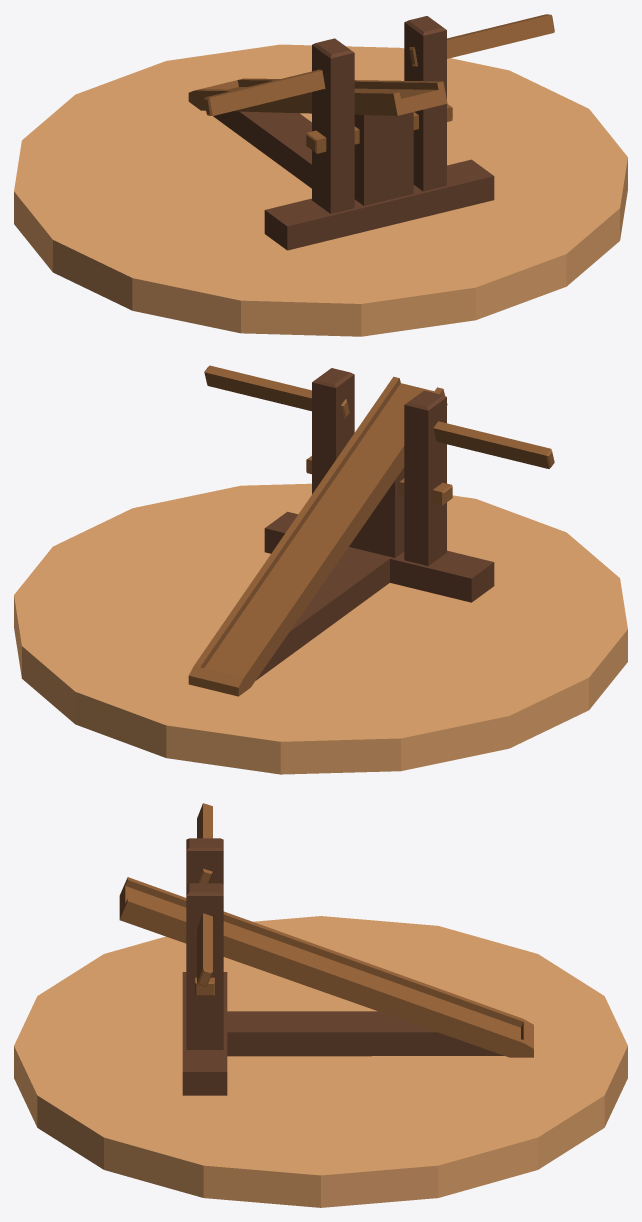
File: Ballista_1.fbx
The picture shows the model from 3 angles, top to bottom: view 1: azimuth 30°, elevation 25°; view 2: azimuth 150°, elevation 25°; view 3: azimuth 270°, elevation 25°; orthographic projection.
Parts seen in each view (by area): view 1: Ballista_1, mobile_ballista-1; view 2: Ballista_1, mobile_ballista-1; view 3: Ballista_1, mobile_ballista-1.
Part boxes in pixels (<box>): Ballista_1: <box>14,16,627,336</box>; mobile_ballista-1: <box>204,14,554,115</box>; Ballista_1: <box>14,368,627,774</box>; mobile_ballista-1: <box>204,365,554,468</box>; Ballista_1: <box>14,838,627,1207</box>; mobile_ballista-1: <box>197,803,212,986</box>.
Size of the model in its own units: 0.6 by 0.2294 by 0.6.
